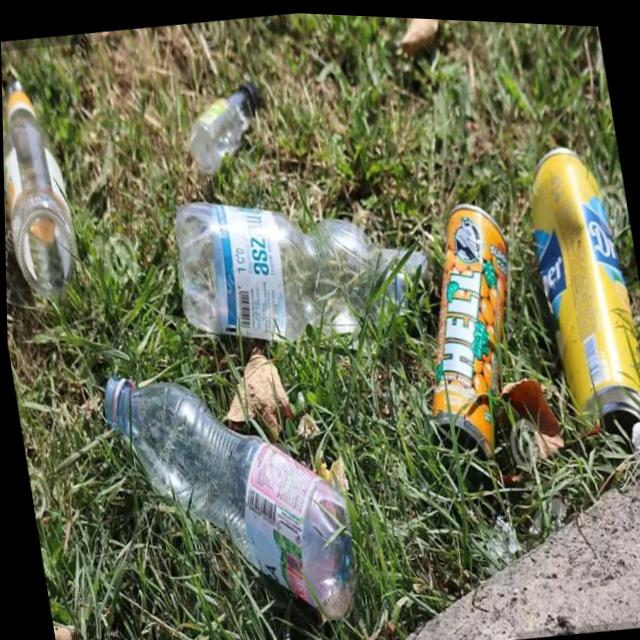clothes: (399, 192, 562, 481), (515, 126, 640, 474)
foam box: (1, 72, 94, 330)
leaf: (92, 353, 361, 640), (149, 167, 450, 380), (188, 75, 280, 168)
